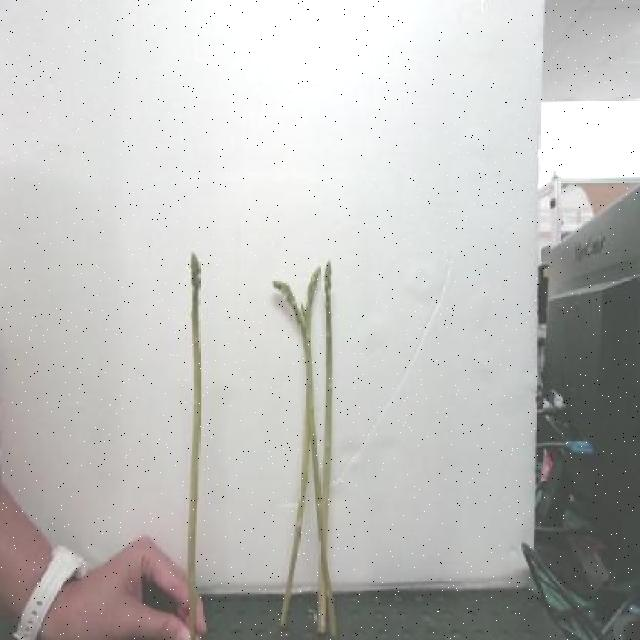aspargus: (186, 255, 205, 622)
